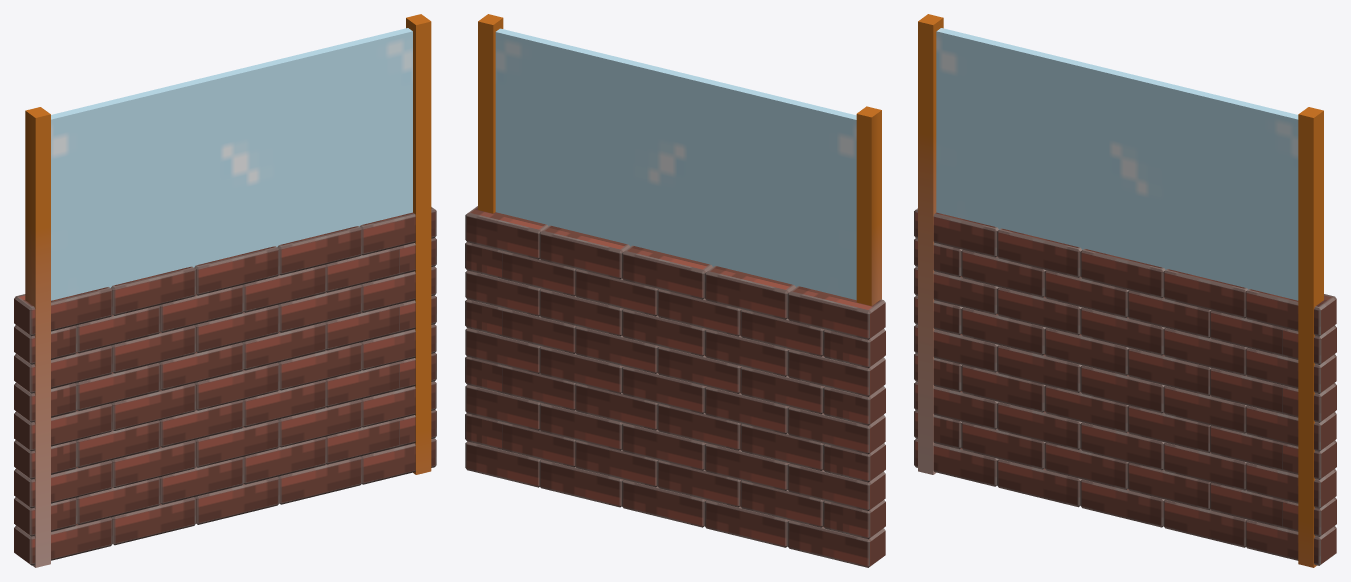
File: HnR_Combine_Fix.fbx
The picture shows the model from 3 angles, left to right: view 1: azimuth 30°, elevation 25°; view 2: azimuth 150°, elevation 25°; view 3: azimuth 330°, elevation 25°; orthographic projection.
Parts seen in each view (by area): view 1: BrickWall, Glass; view 2: BrickWall, Glass; view 3: BrickWall, Glass.
Boxes of the visible parts, x1,y1,x2,y2 form: BrickWall: [14, 207, 436, 565]; Glass: [25, 14, 431, 567]; BrickWall: [465, 206, 885, 567]; Glass: [478, 14, 881, 305]; BrickWall: [914, 208, 1336, 565]; Glass: [918, 14, 1323, 567].
Size of the model in its own units: 10.05 by 10.61 by 0.7413.
